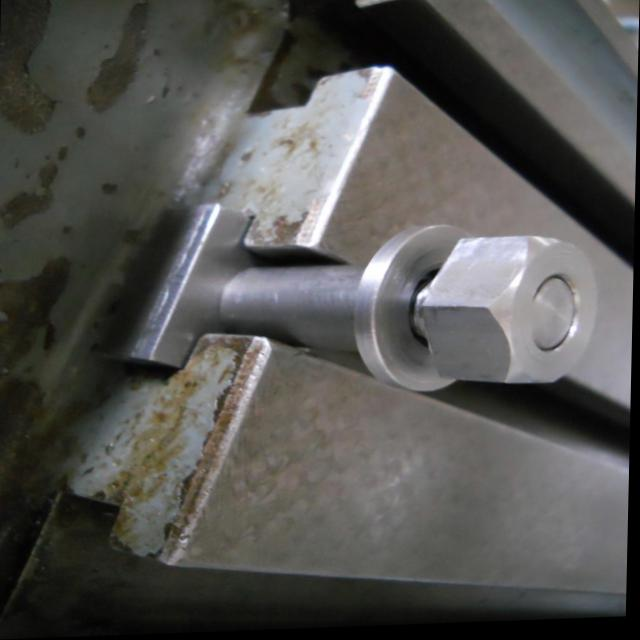Regular bolt: (421, 238, 602, 395)
